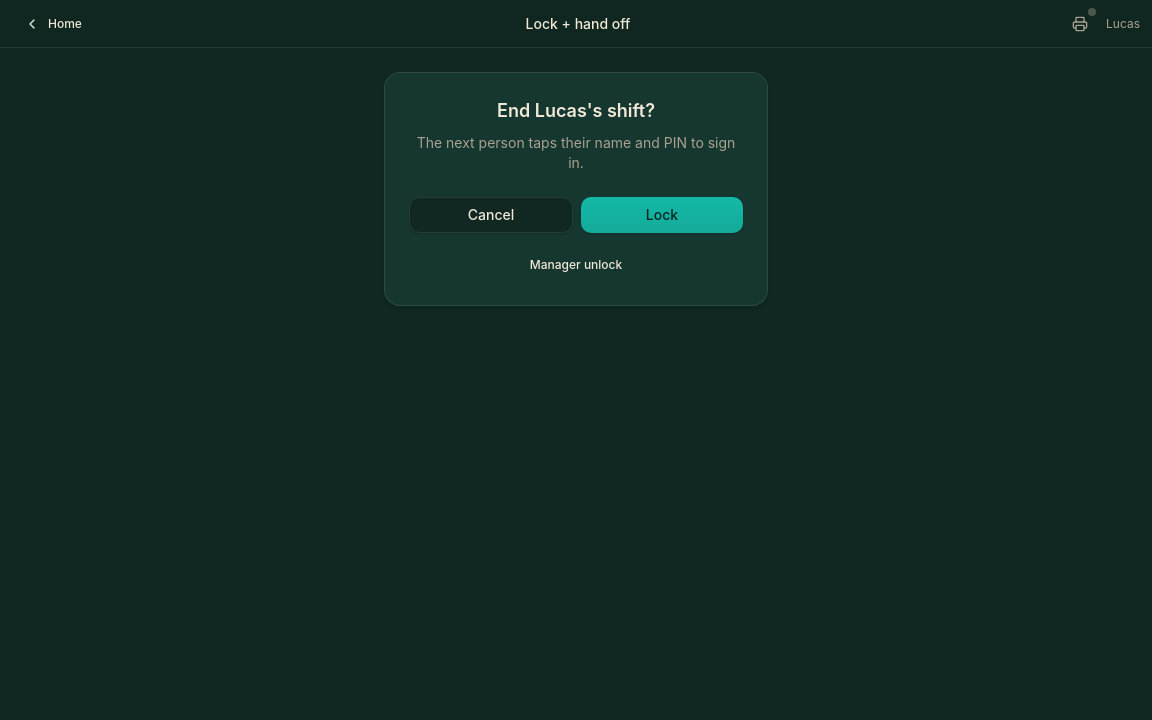
Test case: Lock route — lock mutation + manager-override › 'Manager unlock' opens PinSheet
Click the button "Manager unlock" at (576, 265), box [518, 249, 634, 281]
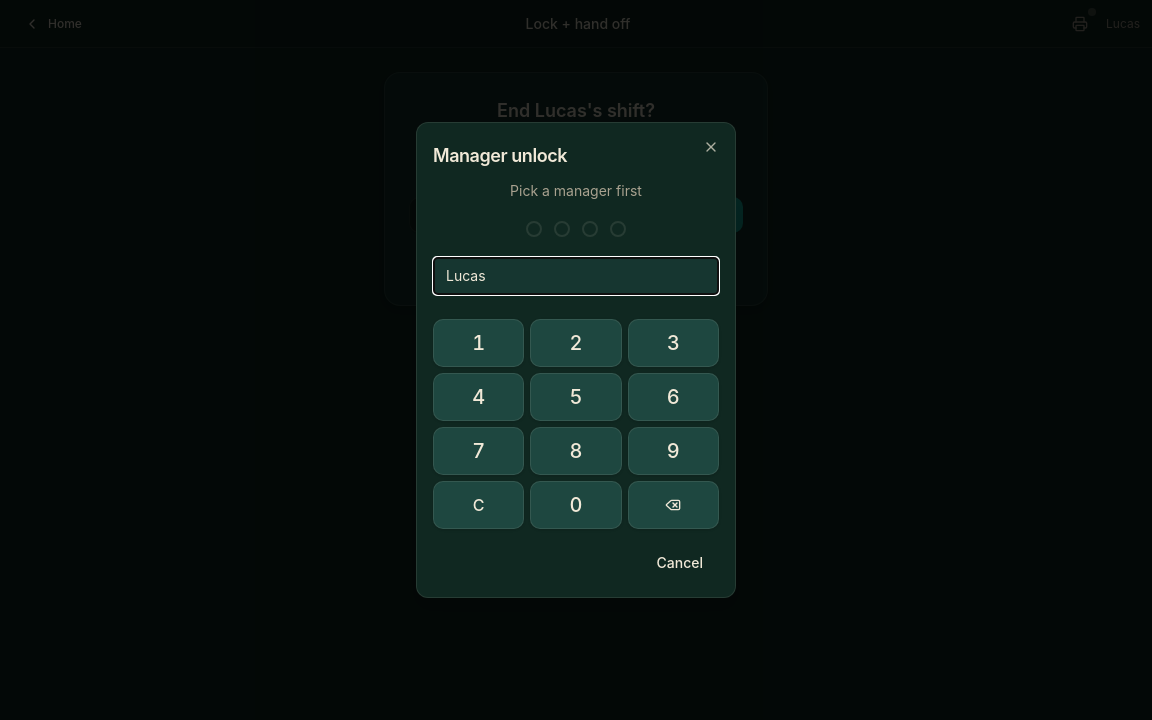
Now the dialog is shown, box [416, 122, 736, 598]
